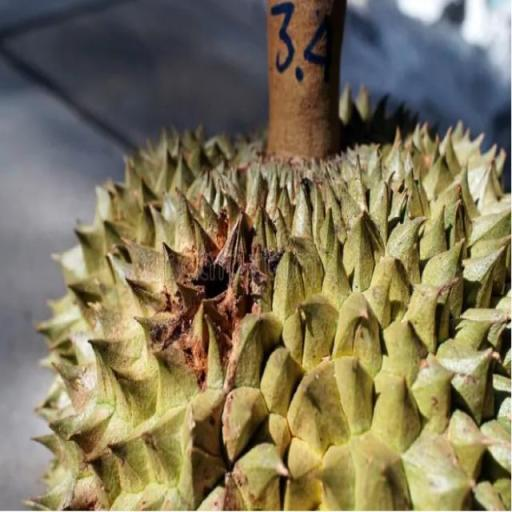rot: (18, 41, 512, 512)
